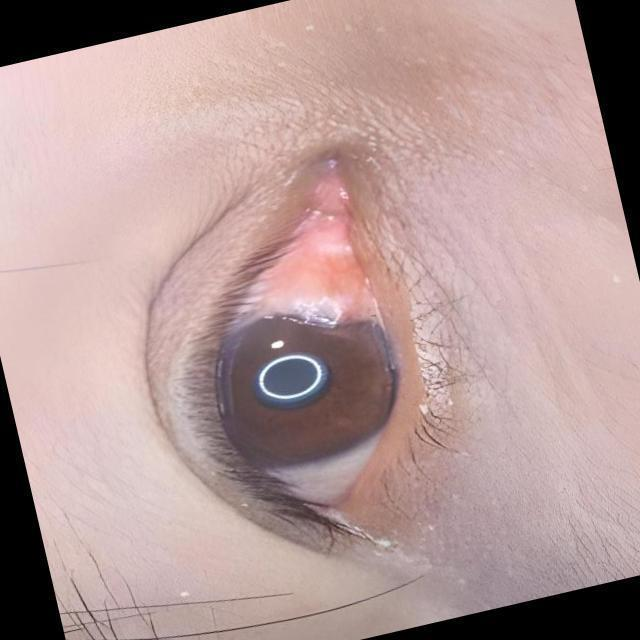Pterygium: (212, 170, 407, 364)
